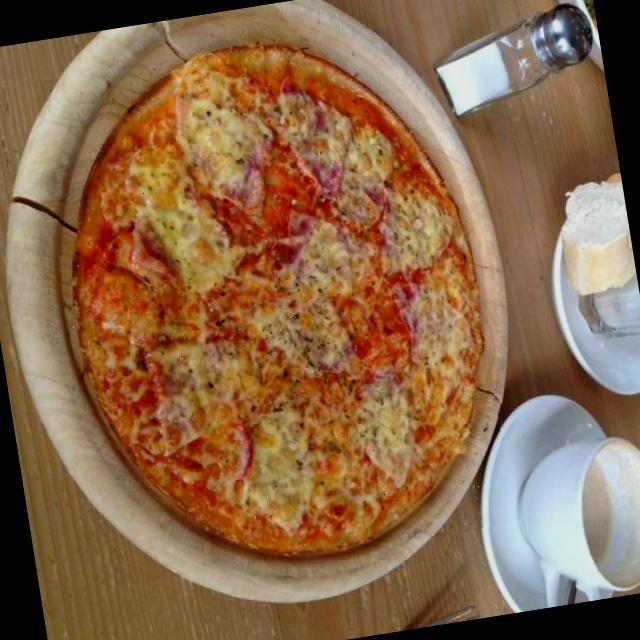cheese: (114, 148, 244, 304), (224, 400, 342, 544), (246, 266, 372, 387), (390, 262, 487, 408), (167, 74, 278, 198), (336, 356, 428, 494), (137, 324, 246, 440), (312, 115, 404, 236), (372, 180, 462, 282), (280, 216, 382, 302)
pizza: (72, 45, 481, 556)
